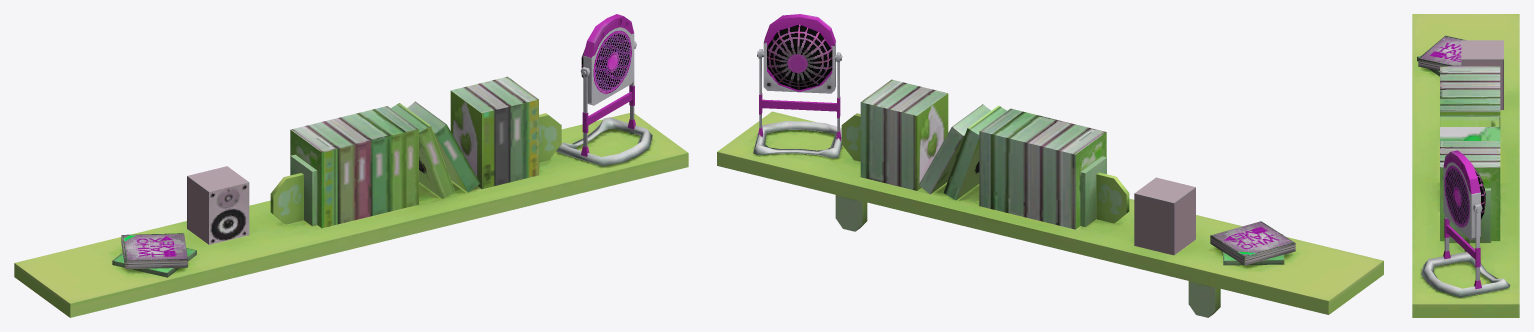
The model's file is furni_0200141_02.FBX.
3 views of the same model, side by side, from view 1: azimuth 30°, elevation 25°; view 2: azimuth 150°, elevation 25°; view 3: azimuth 270°, elevation 25° (orthographic). The views are drawn at different scales.
Parts seen in each view (by area): view 1: furni_0200141_0; view 2: furni_0200141_0; view 3: furni_0200141_0.
Boxes of the visible parts, bbox=[...] form: furni_0200141_0: bbox=[14, 14, 688, 317]; furni_0200141_0: bbox=[717, 14, 1383, 317]; furni_0200141_0: bbox=[1412, 14, 1519, 317].
Bounding box in the file's own units: 160 × 43.33 × 25.
Materials: 1 (1 with a texture image).
